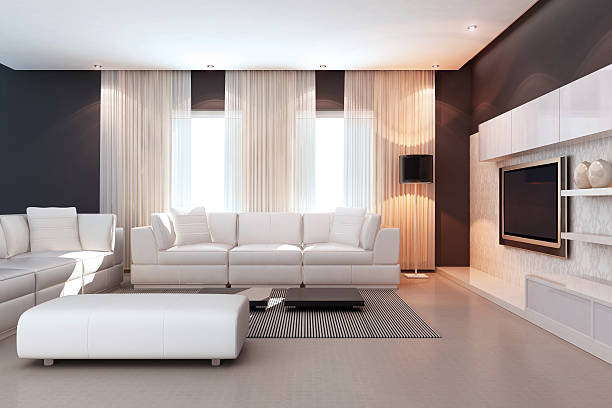TV: (497, 156, 562, 251)
floor lamp: (396, 152, 436, 281)
sofa: (128, 204, 403, 295), (0, 204, 127, 343)
table: (198, 282, 366, 313)
